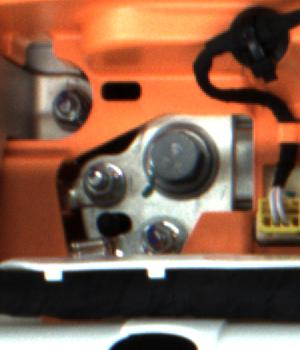nut_b: (140, 130, 220, 200)
screw_s: (78, 160, 124, 202), (47, 88, 84, 122), (144, 220, 177, 251)
